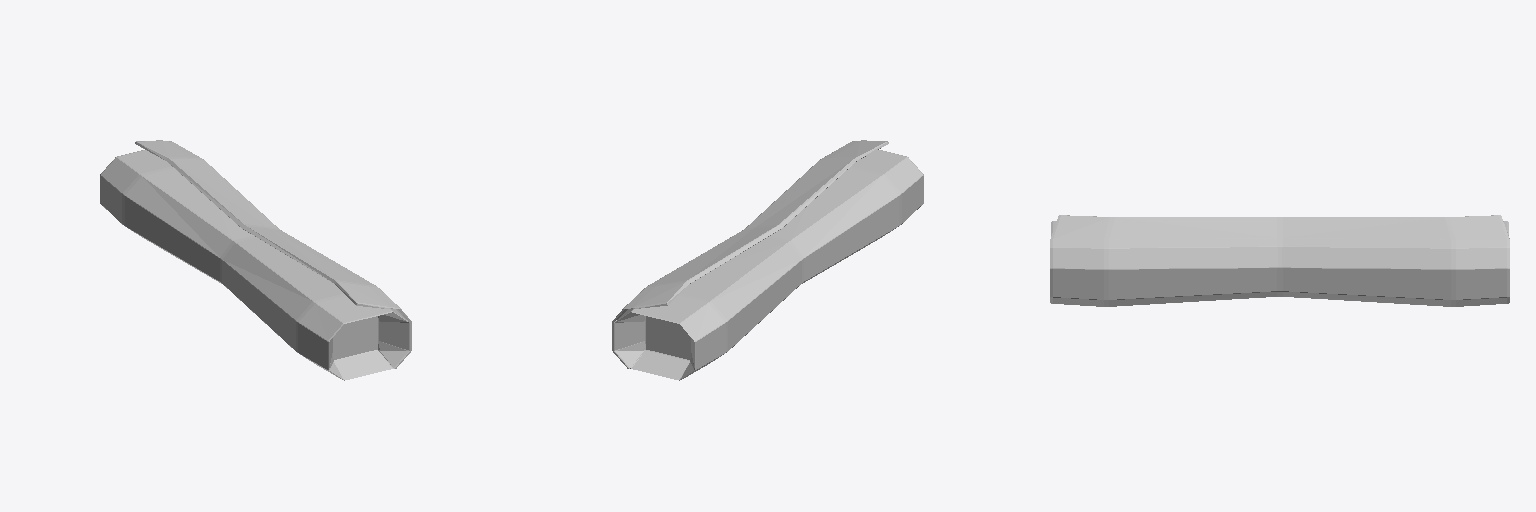
The model's file is newspaper.obj.
The picture shows the model from 3 angles: view 1: azimuth 30°, elevation 25°; view 2: azimuth 150°, elevation 25°; view 3: azimuth 270°, elevation 25°; orthographic projection.
Parts seen in each view (by area): view 1: Cube; view 2: Cube; view 3: Cube.
Boxes of the visible parts, box(x1,y1,x2,y2) form: Cube: box(100, 140, 411, 380); Cube: box(612, 140, 923, 380); Cube: box(1050, 215, 1509, 306).
Size of the model in its own units: 0.777 by 0.6052 by 3.38.